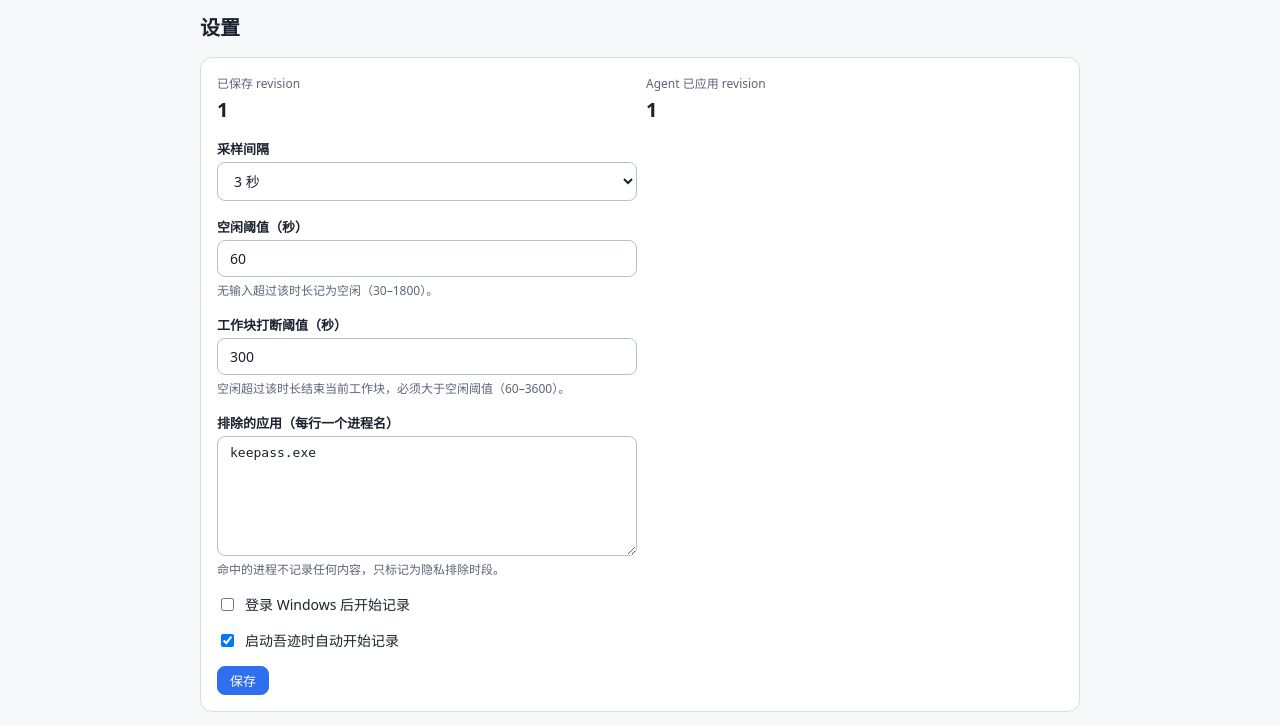
Test: Settings 页面 › Settings 保存失败时偏好仍保存（部分失败矩阵）
Select "5 秒" in the dropdown labelled "采样间隔" at (427, 182), box [217,162,637,201]
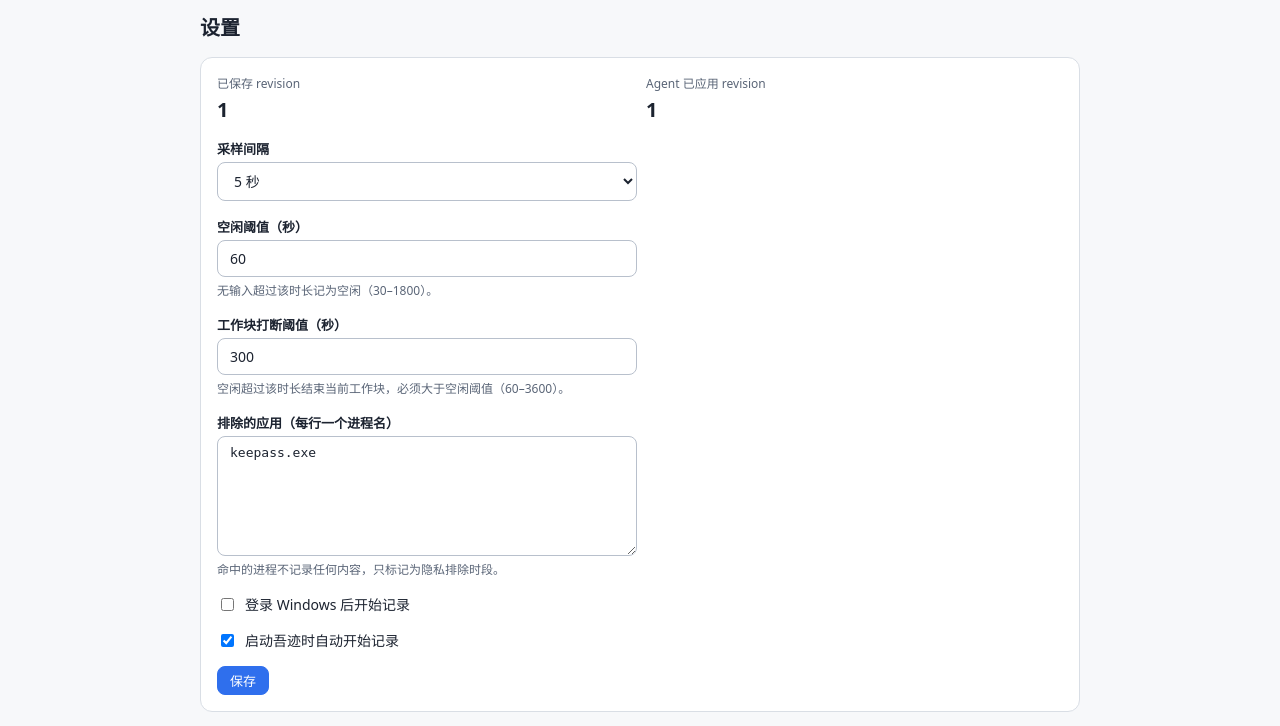
Click the checkbox labelled "启动吾迹时自动开始记录".
click(228, 640)  # box [221,634,234,646]
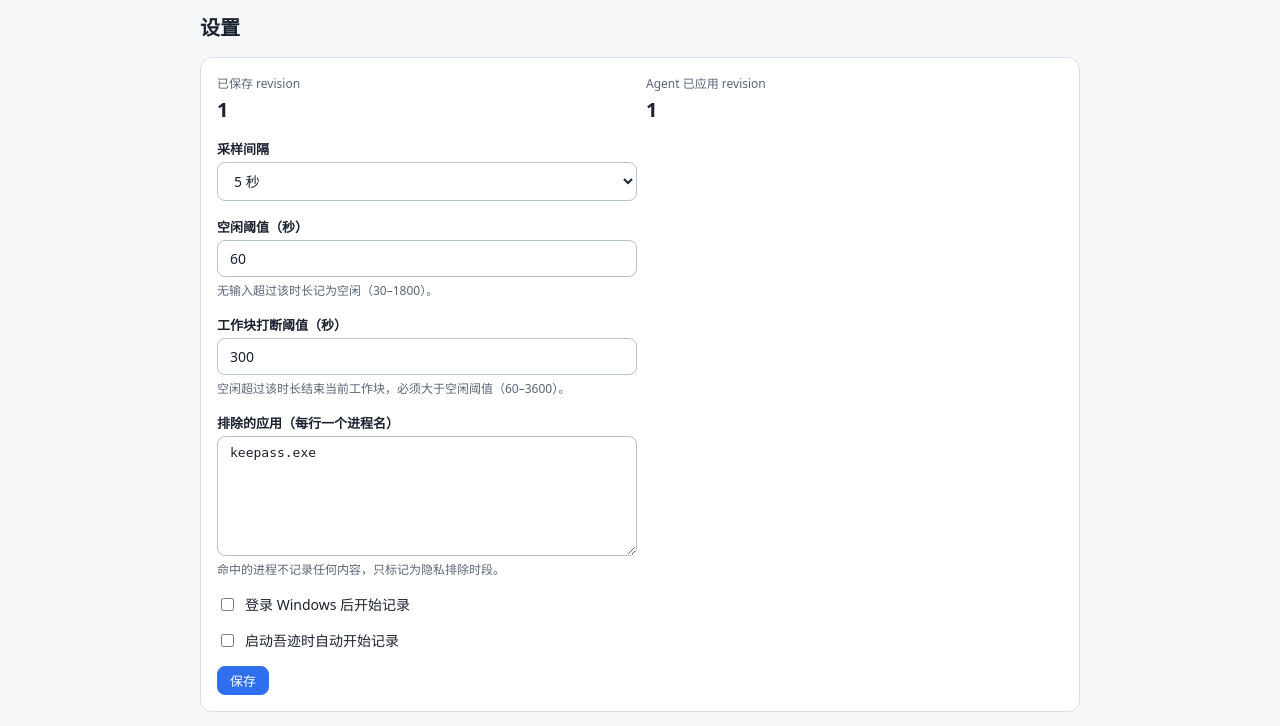
Click the button "保存".
click(243, 680)  # box [217,666,269,695]
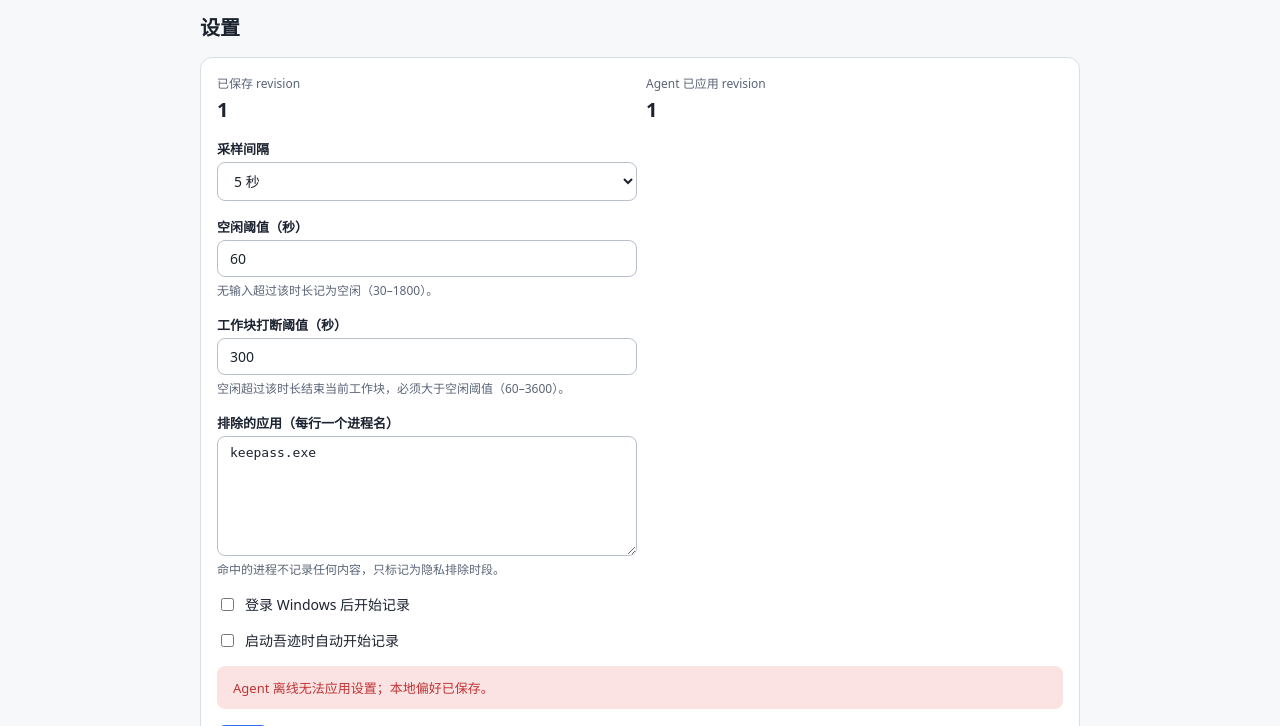
expect the message shows "Agent 离线无法应用设置": met, box [233,679,494,697]
expect the message shows "本地偏好已保存": met, box [233,679,494,697]
